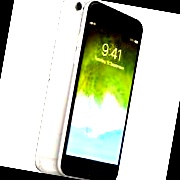samsung: (57, 19, 132, 150)
